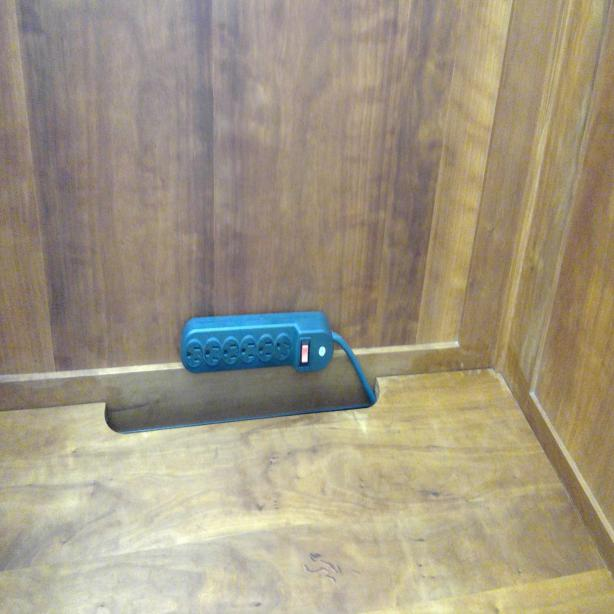typeb: (240, 337, 256, 366), (222, 340, 238, 366), (186, 342, 202, 368), (257, 338, 274, 362), (276, 337, 290, 362), (204, 344, 219, 366)
